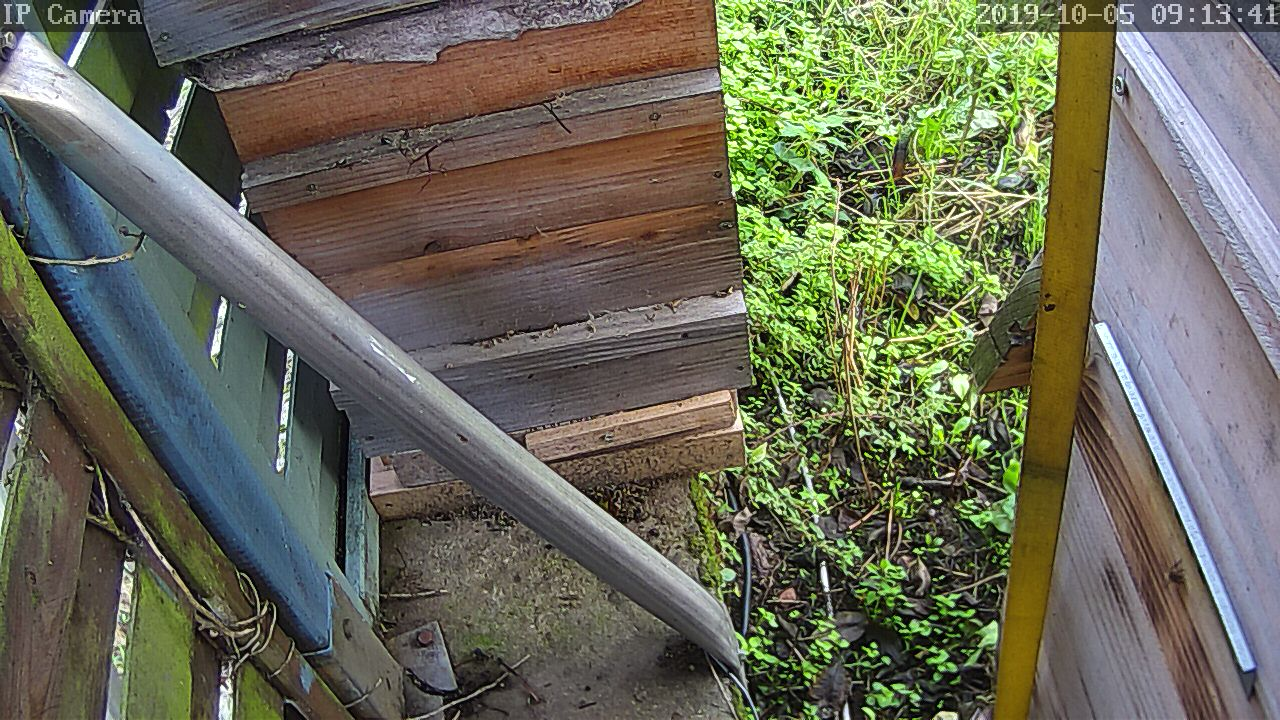hornet: (875, 132, 910, 190), (788, 163, 818, 206)
